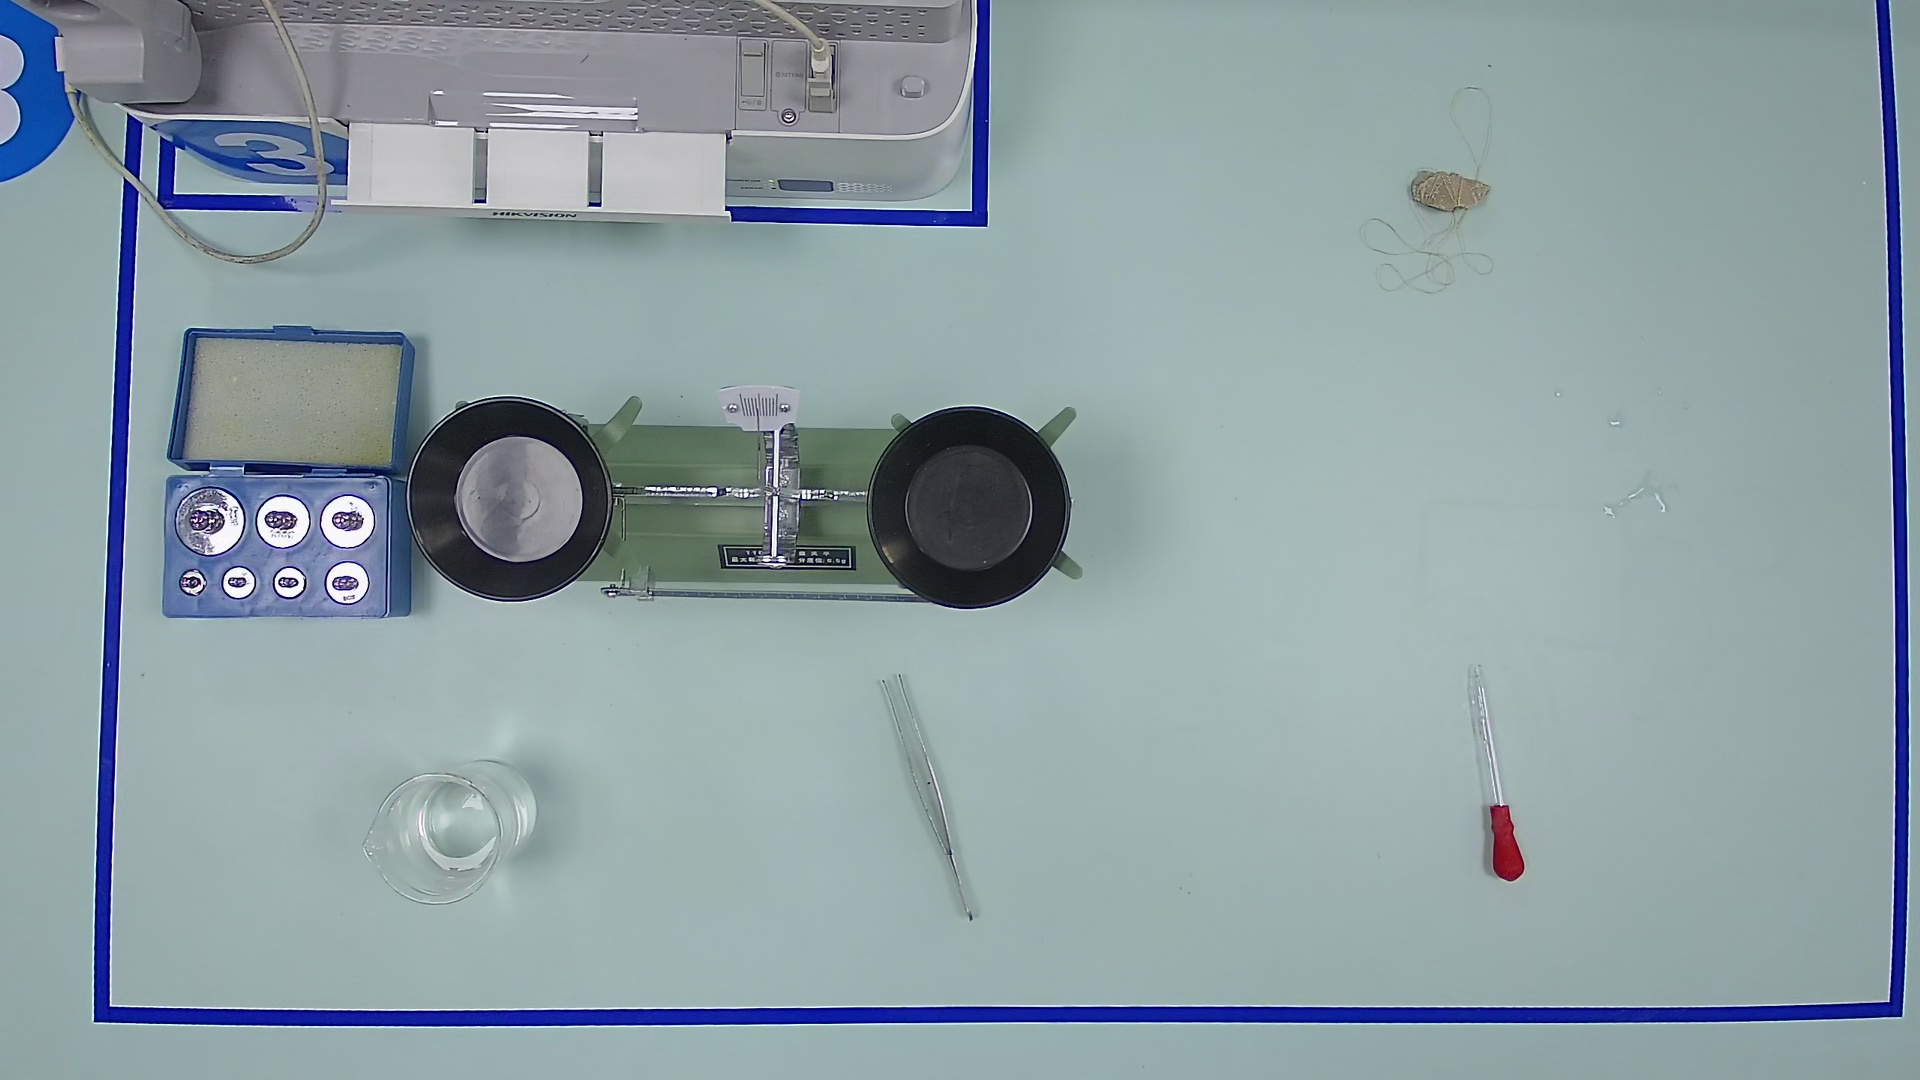bei: (357, 752, 538, 913)
diguan: (1453, 657, 1560, 897)
diguantou: (1476, 789, 1535, 891)
fama: (173, 487, 245, 556), (253, 493, 314, 549), (319, 493, 376, 550), (323, 562, 371, 607), (220, 564, 258, 600), (273, 566, 307, 601), (177, 567, 207, 599)
gan: (600, 563, 923, 626)
he: (146, 462, 409, 636)
niezi: (855, 673, 1021, 948)
pointer: (720, 384, 796, 429)
shi: (1404, 156, 1497, 228)
tuo: (847, 381, 1095, 636), (402, 392, 617, 607)
you: (624, 560, 659, 608)
